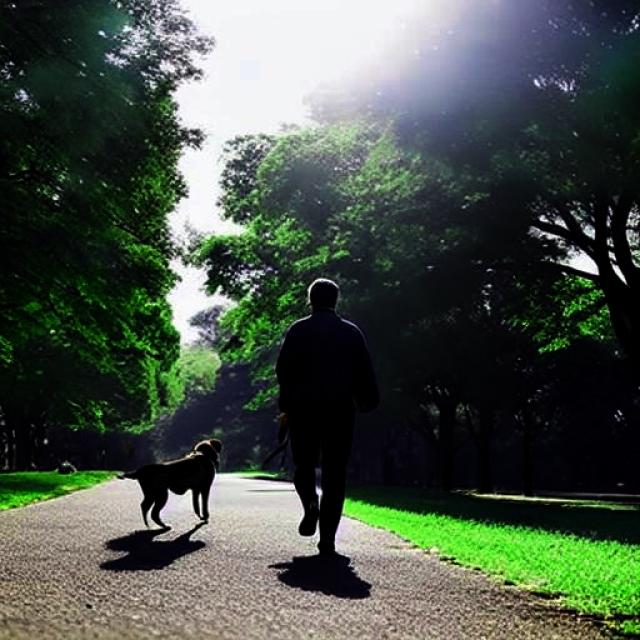Unleashed_Dog: (115, 415, 358, 531)
